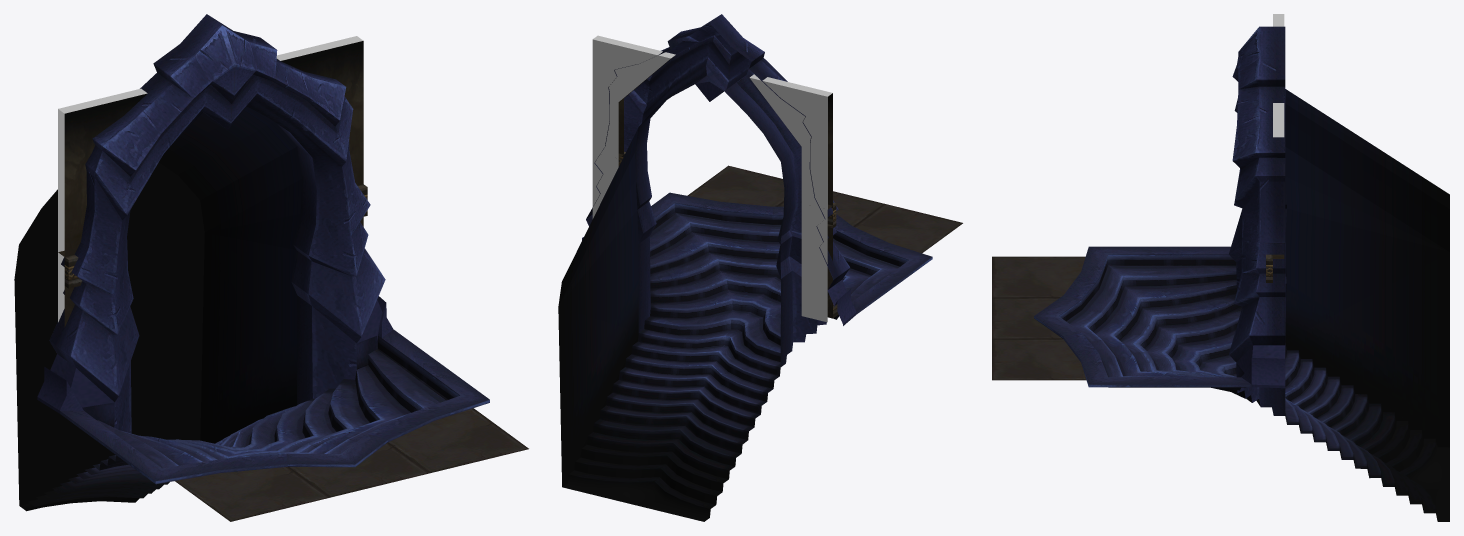
The model's file is fortress_palace_exit_01.fbx.
The picture shows the model from 3 angles, left to right: view 1: azimuth 30°, elevation 25°; view 2: azimuth 150°, elevation 25°; view 3: azimuth 270°, elevation 25°; orthographic projection. The views are drawn at different scales.
Parts seen in each view (by area): view 1: fortress_palace_exit_01-0; view 2: fortress_palace_exit_01-0; view 3: fortress_palace_exit_01-0.
Boxes of the visible parts, x1,y1,x2,y2 form: fortress_palace_exit_01-0: (14, 14, 528, 521); fortress_palace_exit_01-0: (558, 14, 962, 521); fortress_palace_exit_01-0: (992, 14, 1449, 521).
Size of the model in its own units: 13.6 by 20.76 by 18.8.
